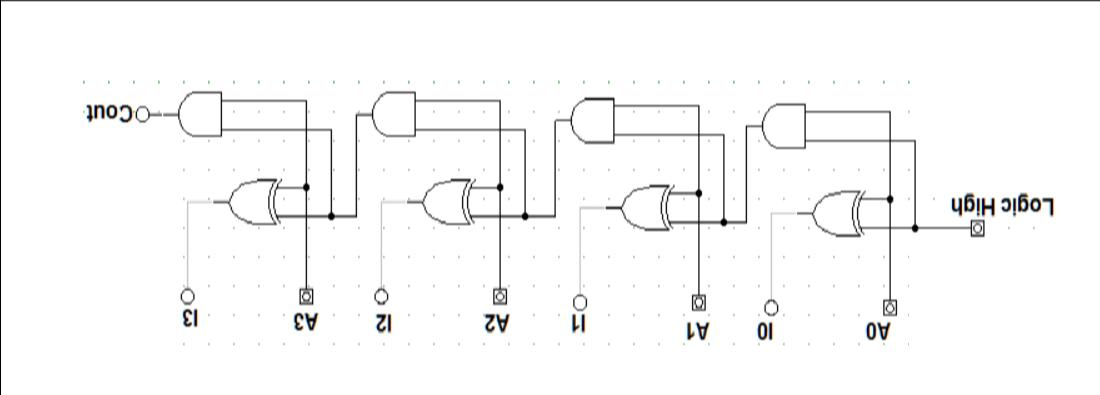and: (166, 76, 237, 153), (750, 88, 814, 158), (562, 84, 624, 152), (362, 82, 422, 148)
xor: (599, 170, 684, 238), (217, 169, 287, 238), (799, 181, 871, 246), (404, 174, 480, 230)
